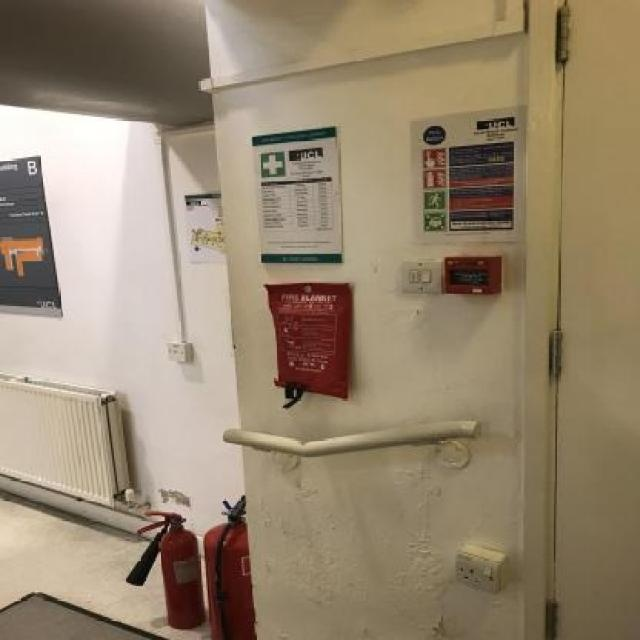fire extinguisher: (127, 510, 205, 627), (205, 497, 257, 640)
